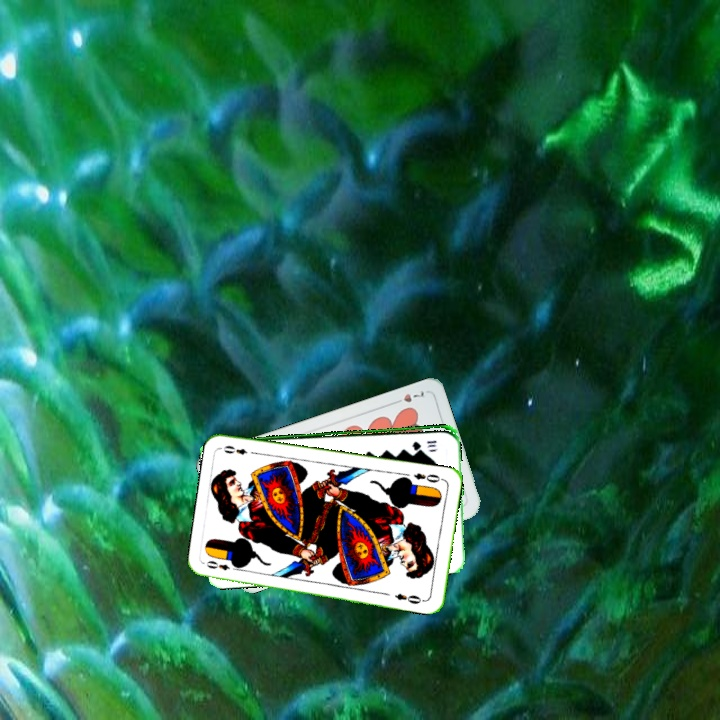EO: (410, 469, 446, 485), (202, 557, 232, 573)
G10: (408, 436, 439, 450)
H7: (389, 387, 427, 407)
